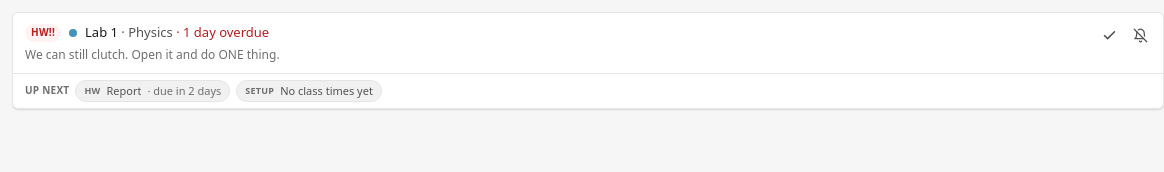
it: RadarCard › promotes an "up next" signal to the headline when its chip is clicked
The width and height of the screenshot is (1164, 172).
Click the button with aria-label "Show Report" at [153, 91], box [75, 80, 230, 102]
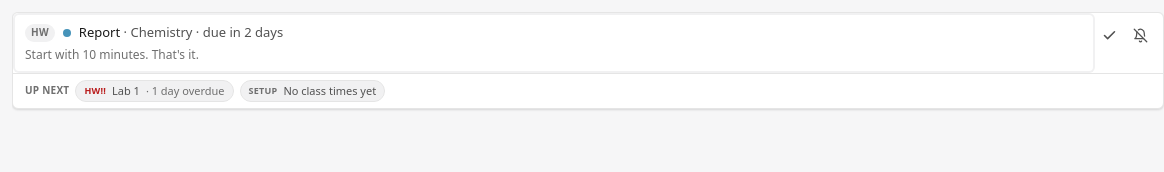
Expected: the text "Report" is shown, [79, 23, 120, 41]
Expected: the button with aria-label "Show Lab 1" is shown, [75, 80, 234, 102]
